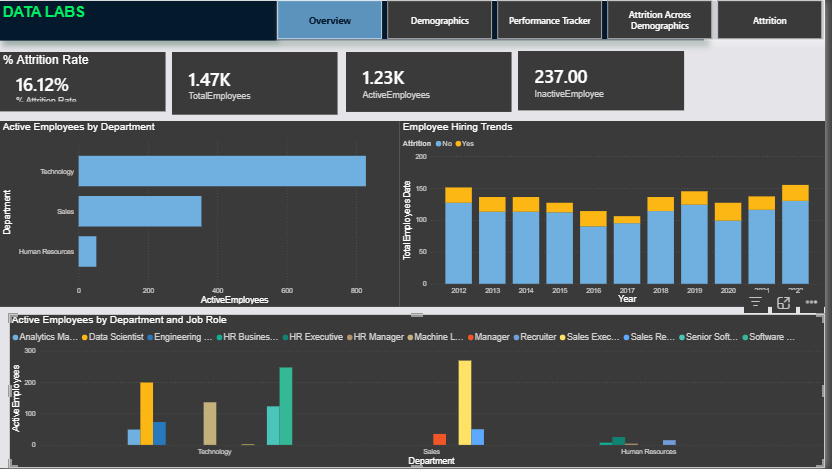

The page's visual inventory and layout, read from the dashboard file:
{"tool":"powerbi","page":{"name":"Overview","canvas":[1500,850],"ordinal":0},"visuals":[{"type":"cardVisual","fields":{"Data":["_Measures.TotalEmployees"]},"box":[312.4,94.1,300.7,114.2],"z":0},{"type":"cardVisual","fields":{"Data":["_Measures.ActiveEmployees"]},"box":[628.2,94.1,300.7,109.2],"z":1000},{"type":"cardVisual","fields":{"Data":["_Measures.InactiveEmployees"]},"box":[941.7,93.3,301.7,108.3],"z":2000},{"type":"cardVisual","title":"% Attrition Rate","fields":{"Data":["_Measures.% Attrition Rate"]},"box":[0,94.1,300.7,107.5],"z":3000},{"type":"columnChart","title":"Employee Hiring Trends","fields":{"Y":["DimDate.TotalEmployeesDate"],"Series":["DimEmployee.Attrition"],"Category":["DimDate.Date.Variation.Date Hierarchy.Year","DimDate.Date.Variation.Date Hierarchy.Quarter","DimDate.Date.Variation.Date Hierarchy.Month","DimDate.Date.Variation.Date Hierarchy.Day"]},"box":[726.7,220,773.3,338.3],"z":4000},{"type":"clusteredBarChart","title":"Active Employees by Department","fields":{"Y":["_Measures.ActiveEmployees"],"Category":["DimEmployee.Department"]},"box":[0,220,726.7,338.3],"z":5000},{"type":"clusteredColumnChart","title":"Active Employees by Department and Job Role","fields":{"Y":["_Measures.ActiveEmployees"],"Category":["DimEmployee.Department"],"Series":["DimEmployee.JobRole"]},"box":[16.4,570.9,1483.6,280],"z":6000},{"type":"textbox","box":[0,1.7,1280,72.2],"z":7000},{"type":"pageNavigator","box":[503.6,0,996.4,72.7],"z":8000}]}

Visuals, with their boxes in screenshot pixels (x1, y1, x2, y2), scaled from the page's 1500x850 canvas onto the 832x469 screenshot:
cardVisual - _Measures.TotalEmployees: 173 52 340 115
cardVisual - _Measures.ActiveEmployees: 348 52 515 112
cardVisual - _Measures.InactiveEmployees: 522 51 690 111
"% Attrition Rate" cardVisual: 0 52 167 111
"Employee Hiring Trends" columnChart: 403 121 831 308
"Active Employees by Department" clusteredBarChart: 0 121 403 308
"Active Employees by Department and Job Role" clusteredColumnChart: 9 315 831 468
textbox: 0 1 710 41
pageNavigator: 279 0 831 40
